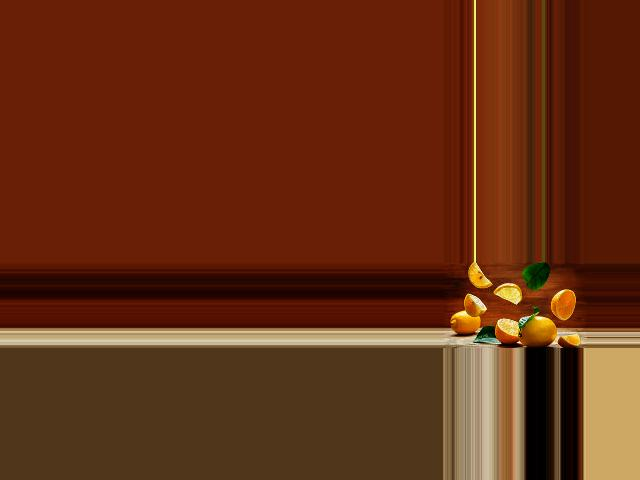lemon: (446, 307, 481, 334)
